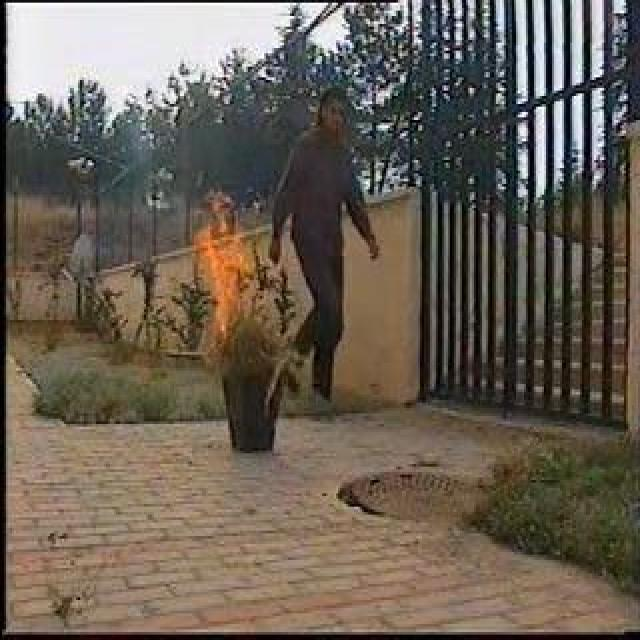fire: (187, 224, 264, 319)
